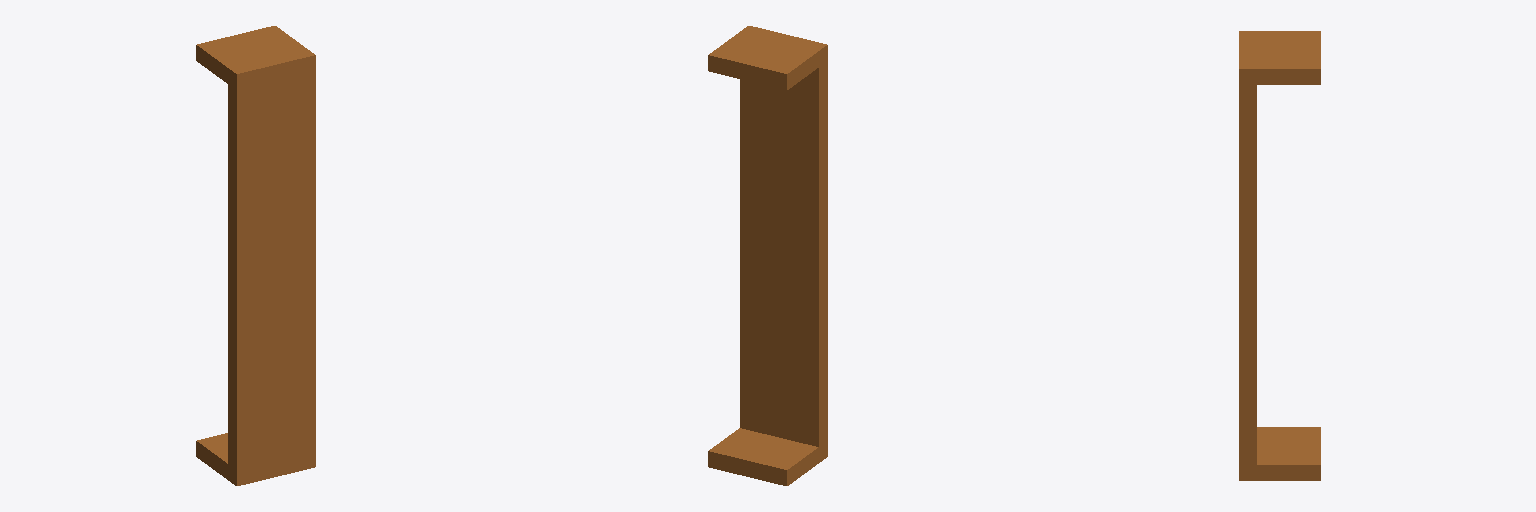
Rendered from bench.obj.
3 renders of one model, left to right at view 1: azimuth 30°, elevation 25°; view 2: azimuth 150°, elevation 25°; view 3: azimuth 270°, elevation 25°, orthographic.
Parts seen in each view (by area): view 1: obj12, obj3, obj19, obj11, obj20; view 2: obj8, obj3, obj19, obj7, obj1, obj10, obj11, obj20; view 3: obj5, obj19, obj7, obj14, obj16.
Part boxes in pixels (left/top/right/bottom): obj12: left=237, top=62, right=315, bottom=479; obj3: left=228, top=76, right=236, bottom=477; obj19: left=197, top=26, right=314, bottom=73; obj11: left=196, top=441, right=236, bottom=485; obj20: left=196, top=45, right=236, bottom=83; obj8: left=740, top=68, right=818, bottom=446; obj3: left=819, top=53, right=827, bottom=454; obj19: left=709, top=26, right=826, bottom=73; obj7: left=709, top=428, right=817, bottom=469; obj1: left=708, top=55, right=786, bottom=89; obj10: left=708, top=451, right=786, bottom=485; obj11: left=787, top=447, right=827, bottom=485; obj20: left=787, top=45, right=827, bottom=89; obj5: left=1239, top=77, right=1256, bottom=472; obj19: left=1239, top=31, right=1320, bottom=68; obj7: left=1257, top=427, right=1320, bottom=464; obj14: left=1239, top=465, right=1320, bottom=480; obj16: left=1239, top=69, right=1320, bottom=84.
Size of the model in its own units: 20.25 by 101 by 18.